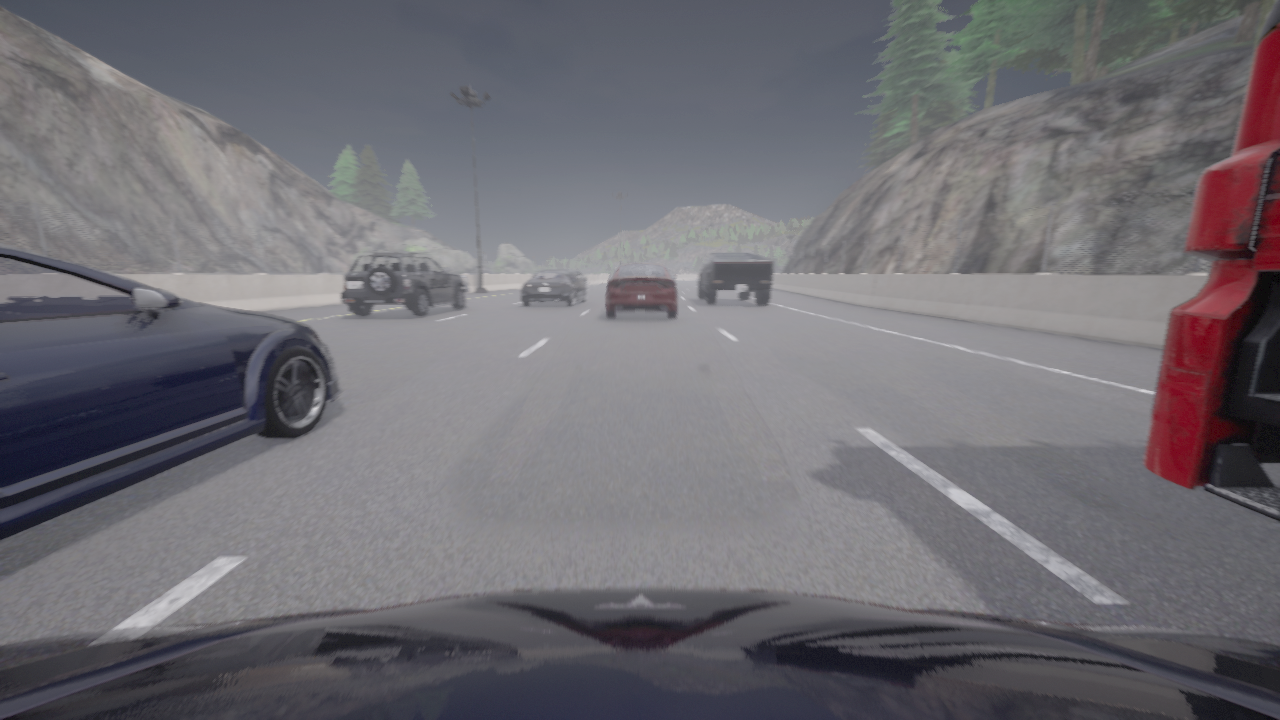cyclist: (0, 588, 1279, 719), (1142, 0, 1279, 522), (339, 252, 467, 316), (696, 252, 772, 305), (606, 262, 676, 318), (520, 269, 586, 306), (569, 270, 588, 288)
